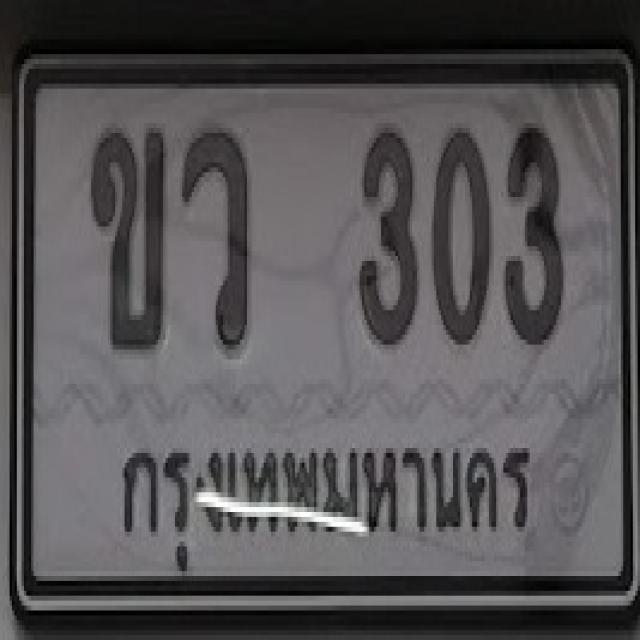license_plate: (12, 51, 640, 639)
